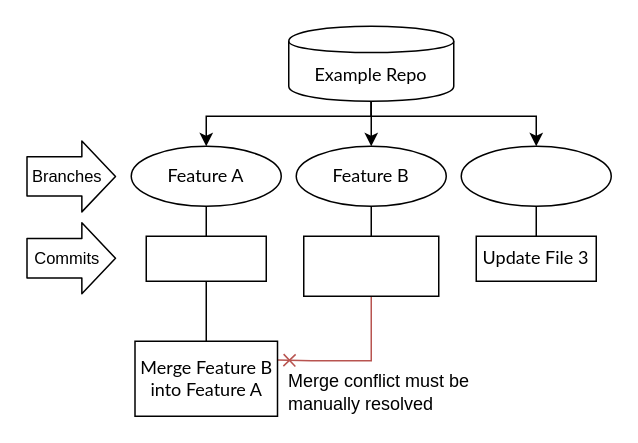
The diagram is 638 pixels wide and 443 high, and some of its shapes have lost their labels. Each missing label, with the box of its shape:
Feature C: (460, 145, 611, 206)
Update File 1: (145, 235, 266, 281)
Update Files 1 and 2: (302, 235, 439, 296)
